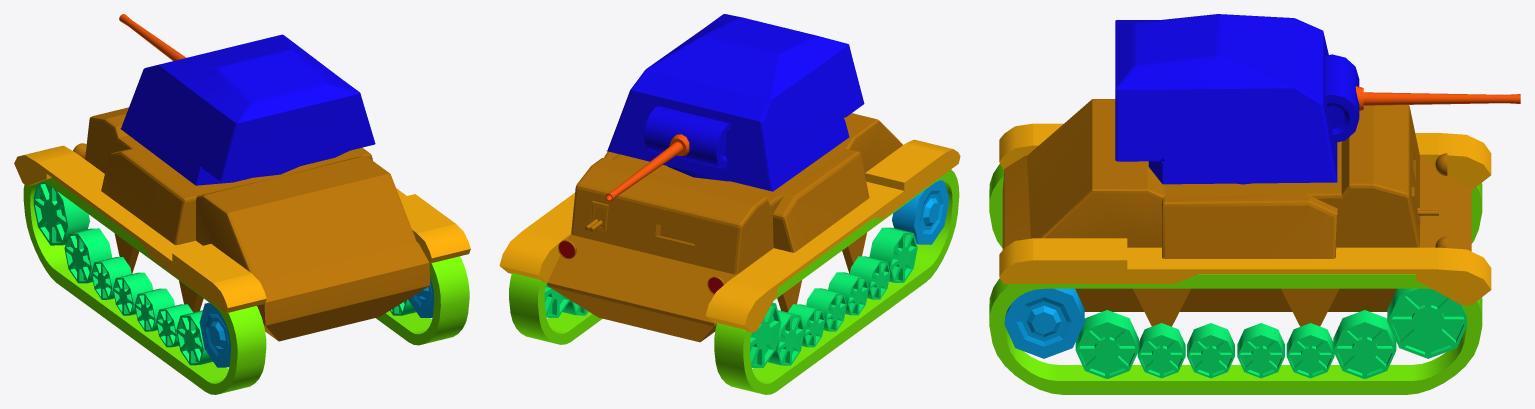
The model's file is A10CruiserTank MkII.fbx.
3 renders of one model, left to right at view 1: azimuth 30°, elevation 25°; view 2: azimuth 150°, elevation 25°; view 3: azimuth 270°, elevation 25°, orthographic. The views are drawn at different scales.
Parts seen in each view (by area): view 1: Body, Turret, Track (×2), Wheels (×9), LeftSide, RightSide, Canon; view 2: Body, Turret, Track (×2), Wheels (×9), LeftSide, RightSide, Canon; view 3: Body, Turret, Wheels (×8), Track (×2), RightSide, LeftSide, Canon.
Part boxes in pixels (<box>): Body: <box>73,107,430,341</box>; Turret: <box>120,34,375,185</box>; Track (×2): <box>23,178,469,394</box>; Wheels (×9): <box>33,181,434,367</box>; LeftSide: <box>14,145,266,313</box>; RightSide: <box>396,188,470,263</box>; Canon: <box>119,14,186,60</box>; Body: <box>547,113,902,342</box>; Turret: <box>607,14,864,191</box>; Track (×2): <box>509,169,959,394</box>; Wheels (×9): <box>544,180,948,367</box>; LeftSide: <box>705,139,960,332</box>; RightSide: <box>499,193,574,282</box>; Canon: <box>605,134,689,201</box>; Body: <box>1002,99,1471,326</box>; Turret: <box>1115,14,1359,184</box>; Wheels (×8): <box>1004,288,1466,378</box>; Track (×2): <box>989,164,1482,394</box>; RightSide: <box>999,238,1491,305</box>; LeftSide: <box>999,123,1491,190</box>; Canon: <box>1355,86,1520,110</box>.
Size of the model in its own units: 2.1 by 2.11 by 3.45.
